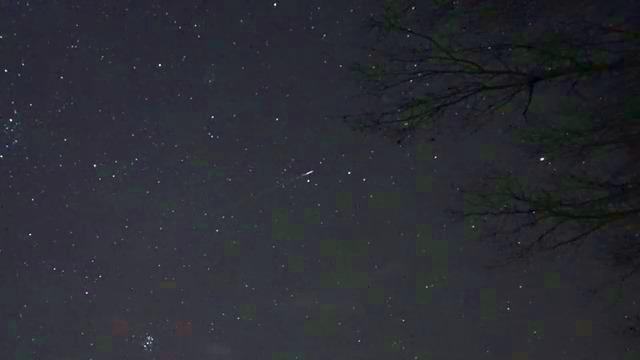meteorite: (283, 166, 329, 180)
